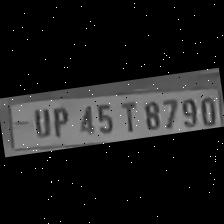0: (196, 92, 218, 126)
4: (71, 100, 98, 138)
5: (90, 99, 117, 136)
7: (157, 94, 180, 130)
8: (138, 96, 162, 131)
9: (176, 93, 199, 128)
P: (46, 103, 72, 139)
T: (114, 98, 141, 134)
U: (27, 104, 52, 138)
